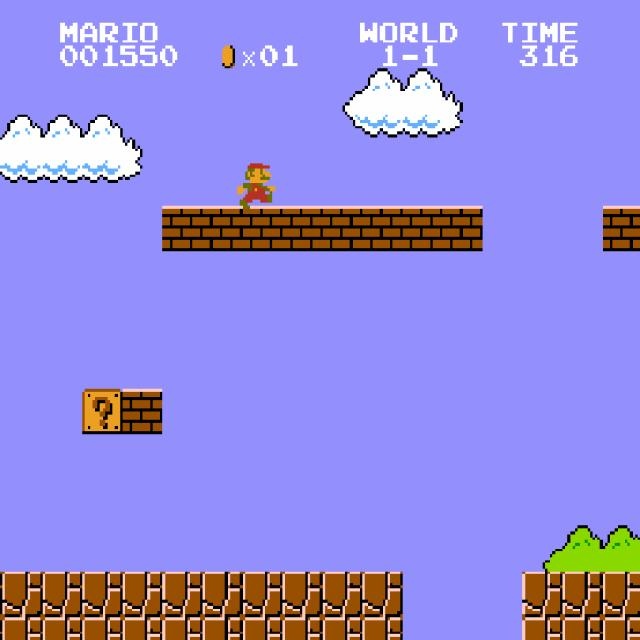brick_block: (122, 389, 163, 434), (162, 206, 203, 251), (202, 206, 243, 251), (242, 206, 283, 251), (282, 206, 323, 251), (322, 206, 363, 251), (362, 206, 403, 251), (402, 206, 443, 251), (442, 206, 483, 251), (603, 206, 640, 251)
little_mario: (235, 160, 278, 208)
mystery_block: (82, 389, 123, 434)
undestructible_block: (2, 572, 43, 617), (42, 572, 83, 617), (82, 572, 123, 617), (122, 572, 163, 617), (162, 572, 203, 617), (202, 572, 243, 617), (242, 572, 283, 617), (282, 572, 323, 617), (322, 572, 363, 617), (362, 572, 403, 617), (522, 572, 563, 617), (562, 572, 603, 617), (603, 572, 640, 617), (2, 617, 43, 640), (42, 617, 83, 640), (82, 617, 123, 640), (122, 617, 163, 640), (162, 617, 203, 640), (202, 617, 243, 640), (242, 617, 283, 640), (282, 617, 323, 640), (322, 617, 363, 640), (362, 617, 403, 640), (522, 617, 563, 640), (562, 617, 603, 640), (603, 617, 640, 640), (0, 571, 2, 617), (0, 617, 2, 639)
